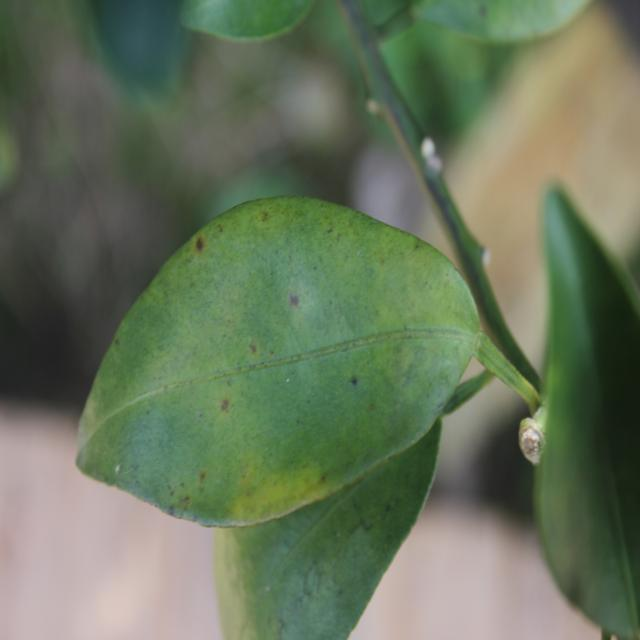blackspot: (112, 211, 456, 515)
